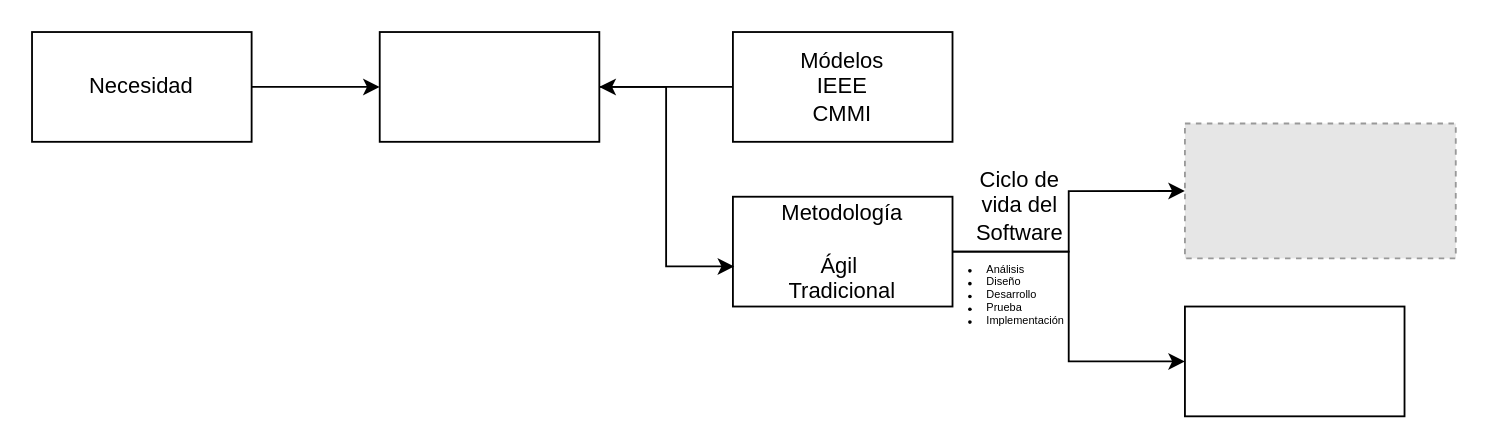
This 1488x448 diagram has some shape labels left out. Grey dashed boxes stand in for pictures. Here are the shapes that lost their labels. From the top down, the centre of each, then its label:
[488,86]: Definir RF (Qué) NRF (Cómo)
[1294,360]: XP SCRUM KANBAN
